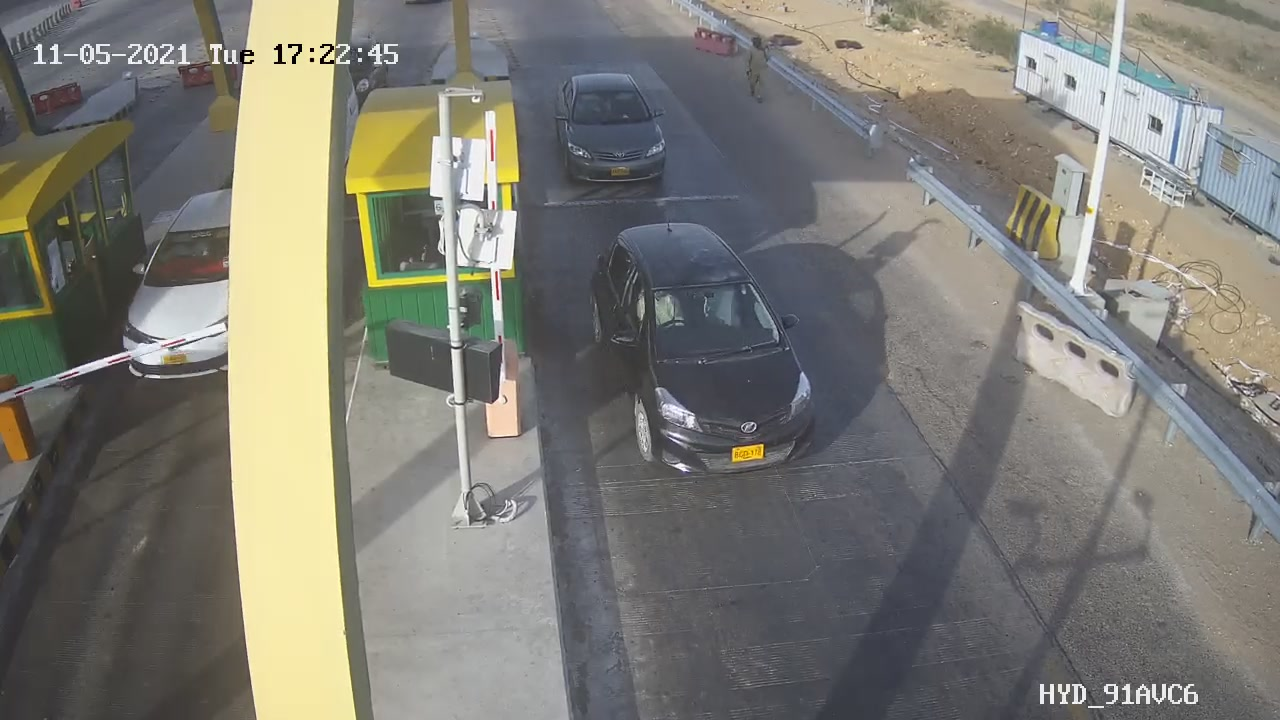F1: (538, 59, 687, 200)
